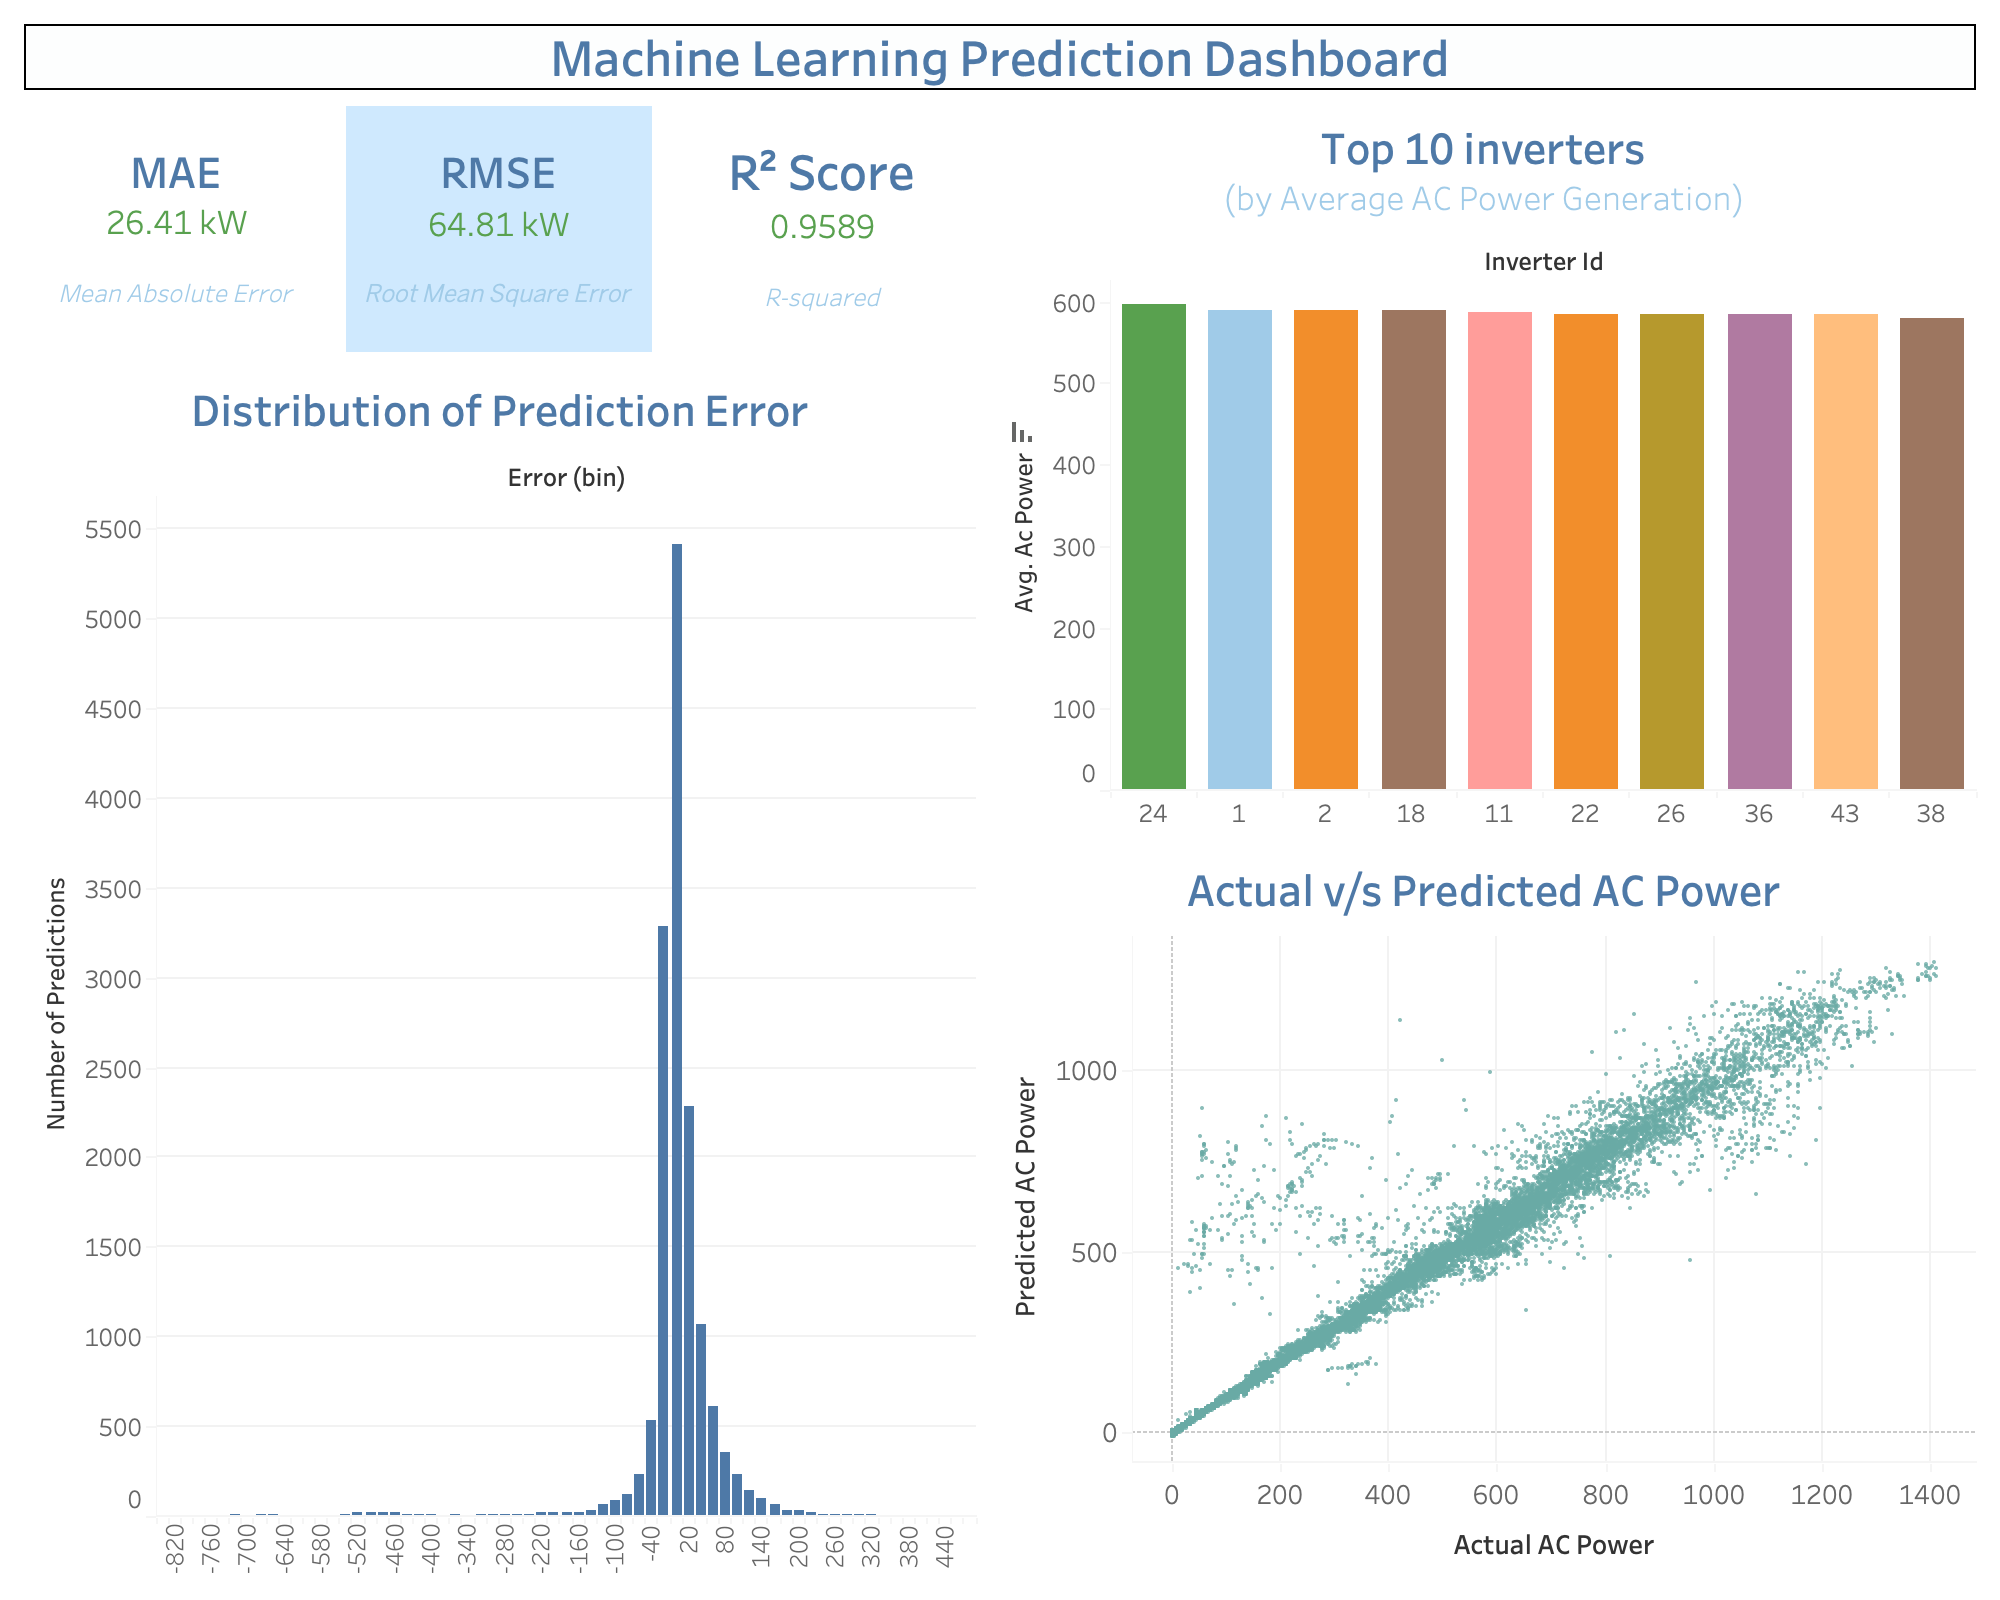

The dashboard page shown, as its layout file describes it:
{"tool":"tableau","page":{"name":"Machine Learning Prediction Dashboard","canvas":[1000,800],"ordinal":1},"visuals":[{"type":"title","box":[8,8,984,41]},{"type":"worksheet","title":"MAE","mark":"Automatic","box":[8,49,161.3,130.8]},{"type":"worksheet","title":"RMSE","mark":"Automatic","box":[169.3,49,161.3,130.8]},{"type":"worksheet","title":"R2","mark":"Automatic","box":[330.7,49,161.3,130.8]},{"type":"worksheet","title":"Average AC Power by Inverter","mark":"Automatic","rows":["AC_POWER"],"cols":["INVERTER_ID"],"box":[492,49,500,371.5]},{"type":"worksheet","title":"Prediction Error","mark":"Automatic","rows":["Error"],"cols":["Error (bin)"],"box":[8,179.8,484,612.2]},{"type":"worksheet","title":"Prediction Accuracy","mark":"Circle","rows":["Predicted_AC_POWER"],"cols":["Actual_AC_POWER"],"box":[492,420.5,500,371.5]}]}

Visuals, with their boxes in screenshot pixels (x1, y1, x2, y2), scaled from the page's 1000x800 canvas onto the 2000x1600 screenshot:
title: (x1=16, y1=16, x2=1984, y2=98)
"MAE" worksheet: (x1=16, y1=98, x2=339, y2=360)
"RMSE" worksheet: (x1=339, y1=98, x2=661, y2=360)
"R2" worksheet: (x1=661, y1=98, x2=984, y2=360)
"Average AC Power by Inverter" worksheet: (x1=984, y1=98, x2=1984, y2=841)
"Prediction Error" worksheet: (x1=16, y1=360, x2=984, y2=1584)
"Prediction Accuracy" worksheet (Circle marks): (x1=984, y1=841, x2=1984, y2=1584)
